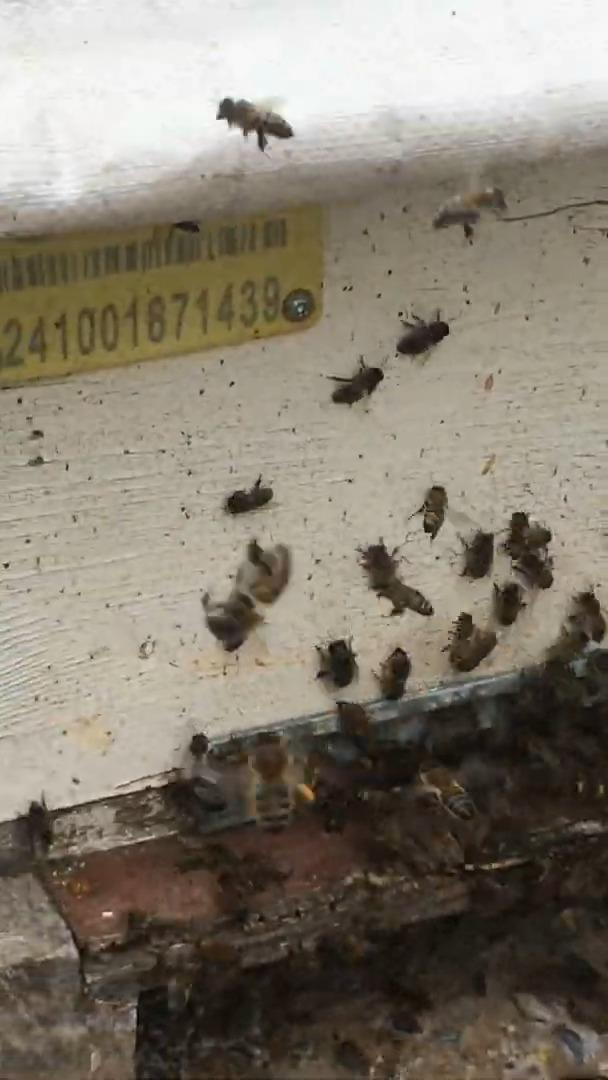worker-bee: (169, 732, 227, 824), (249, 733, 293, 829), (216, 97, 293, 151), (202, 588, 262, 651), (237, 539, 291, 604), (166, 772, 227, 828), (433, 187, 506, 229), (420, 766, 476, 820), (447, 613, 496, 671), (328, 357, 383, 405), (396, 311, 449, 356), (504, 511, 551, 559), (376, 577, 433, 616), (359, 538, 398, 590), (22, 795, 54, 858), (316, 639, 357, 688), (224, 475, 273, 514), (569, 589, 605, 642), (376, 647, 410, 700), (416, 485, 447, 540), (336, 702, 371, 750), (513, 549, 553, 588), (462, 529, 493, 578), (493, 582, 524, 625), (574, 775, 607, 799), (189, 733, 208, 760), (172, 220, 199, 233)
